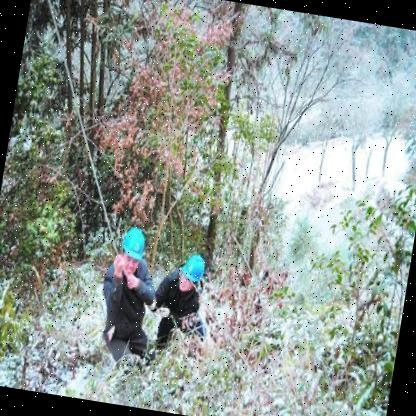capacete: (117, 223, 152, 265), (177, 250, 208, 285)
